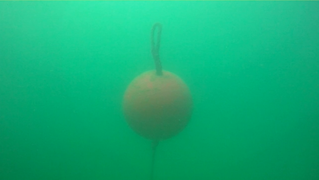bubble: (226, 70, 233, 76), (49, 67, 55, 73), (223, 44, 229, 49), (260, 62, 265, 67)
buoy: (121, 70, 194, 142)
